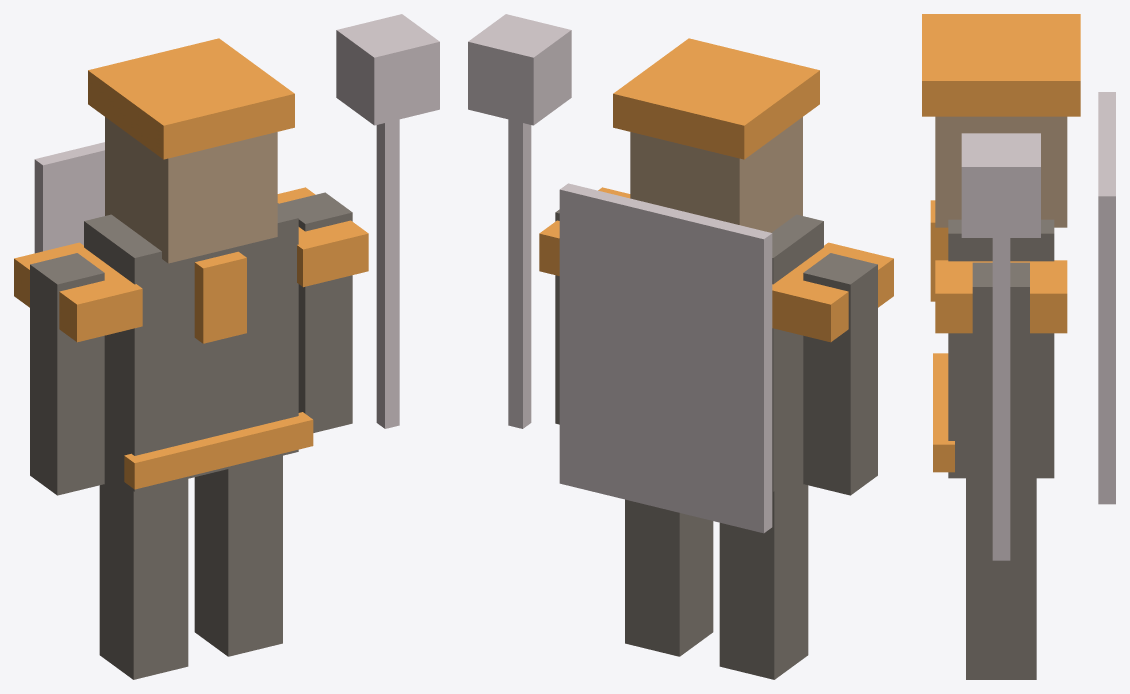
The model's file is 02_nix_gearmantle_marshal_of_mirage.glb.
The picture shows the model from 3 angles, left to right: view 1: azimuth 30°, elevation 25°; view 2: azimuth 150°, elevation 25°; view 3: azimuth 270°, elevation 25°; orthographic projection. The views are drawn at different scales.
Visible parts, largest first — view 1: Nix Gearmantle, Marshal of Mirage; view 2: Nix Gearmantle, Marshal of Mirage; view 3: Nix Gearmantle, Marshal of Mirage.
Part boxes in pixels (<box>): Nix Gearmantle, Marshal of Mirage: <box>14,14,439,679</box>; Nix Gearmantle, Marshal of Mirage: <box>468,14,893,679</box>; Nix Gearmantle, Marshal of Mirage: <box>922,14,1115,679</box>.
Bounding box in the file's own units: 1.07 × 1.54 × 0.456.
